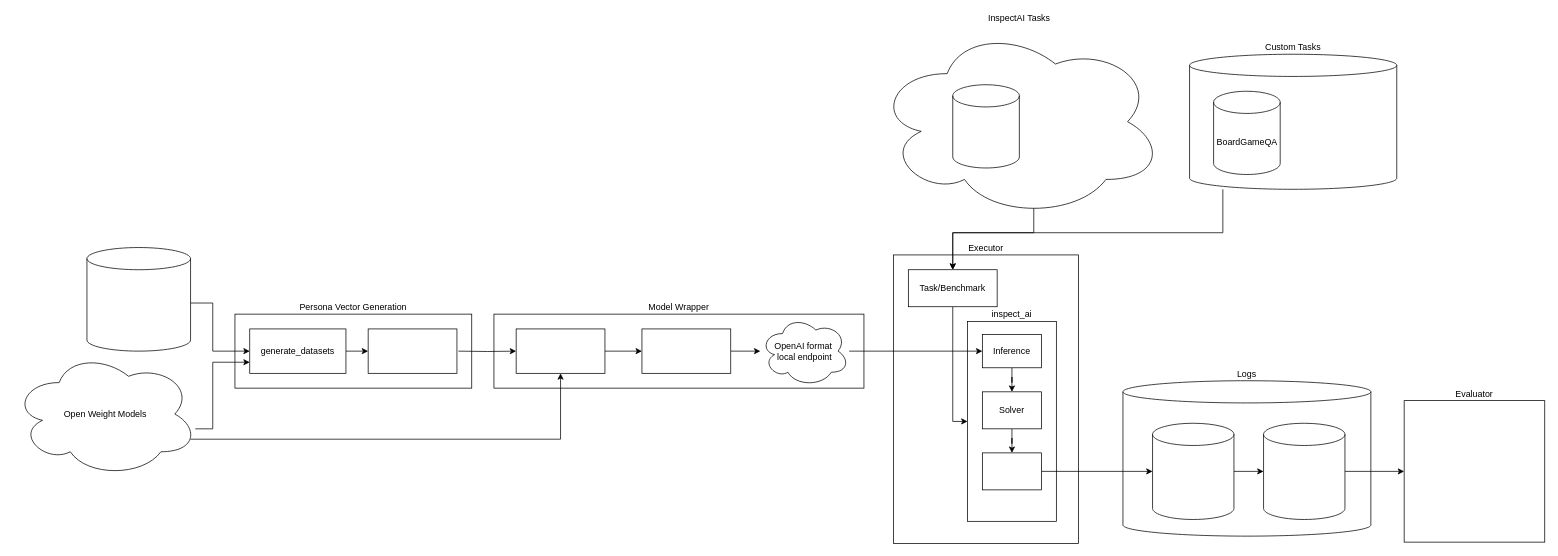
This 1558x556 diagram has some shape labels left out. The centre of each missing label's shape, as x and y in pixels:
activation_extraction: pixel 412 350
activation_insertion: pixel 560 350
BigBenchHard: pixel 985 126
inference_framework (hugginface): pixel 686 350
List of Personas: pixel 138 299
Outputs: pixel 1304 471
Scorer: pixel 1012 471
Traces: pixel 1193 471
